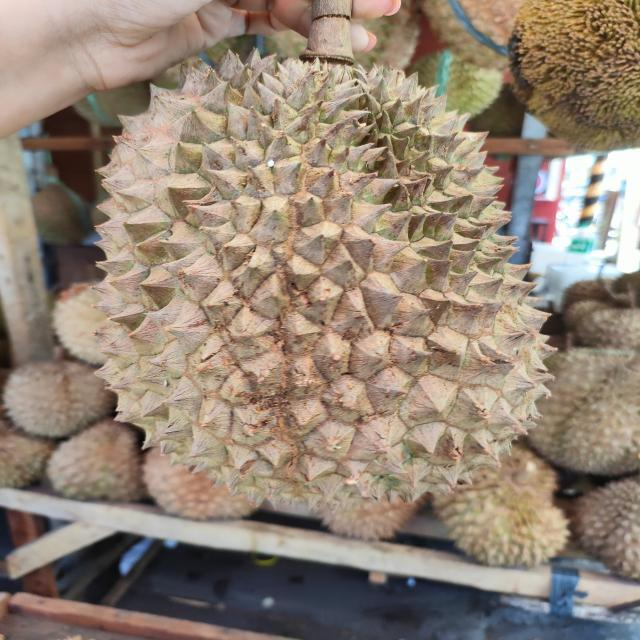mature: (91, 44, 554, 512)
